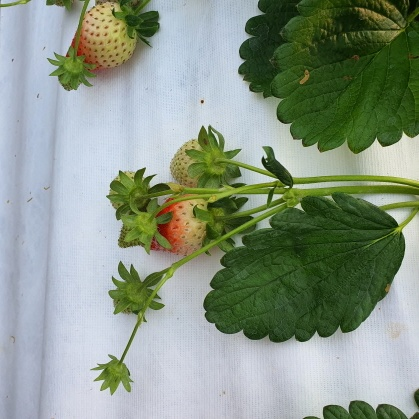Powdery_Fruit: (165, 195, 266, 255)
